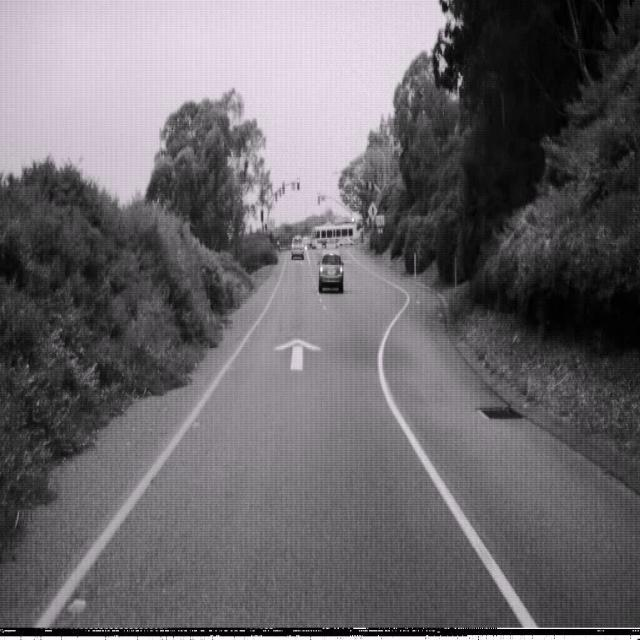pedestrianCrossing: (367, 199, 378, 222)
